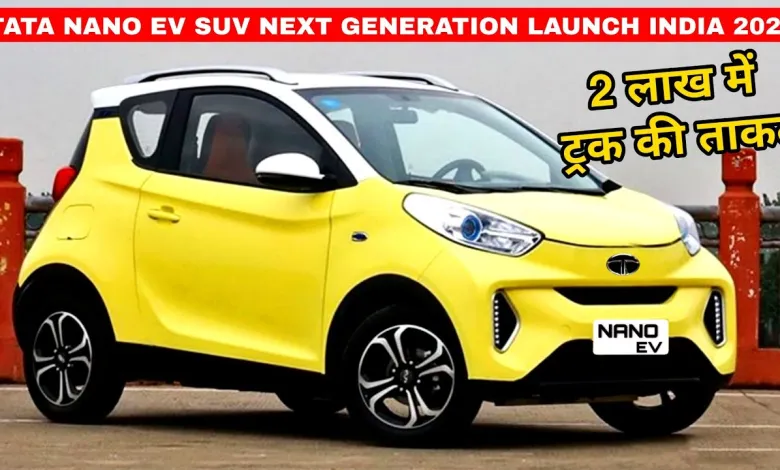Nano: (11, 64, 737, 450)
